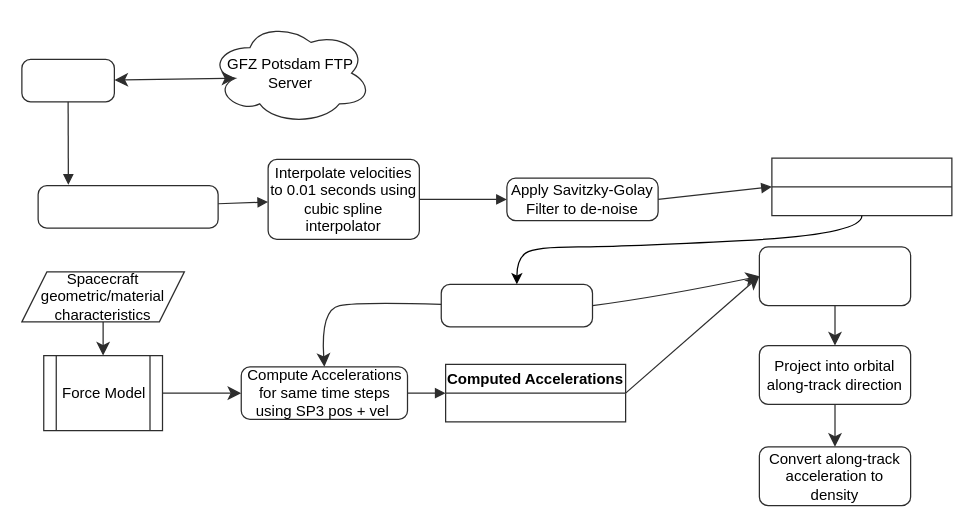
This 974x528 diagram has some shape labels left out. The centre of each missing label's shape, as x and y in pixels:
Convert from CTS reference frame to J2000: the point at 127,206
Downsample to 15s resolution: the point at 516,305
Fetch SP3 Orbits: the point at 67,80
Observed Accelerations: the point at 861,186
Subtract Observed and Computed Accelerations: the point at 834,276
